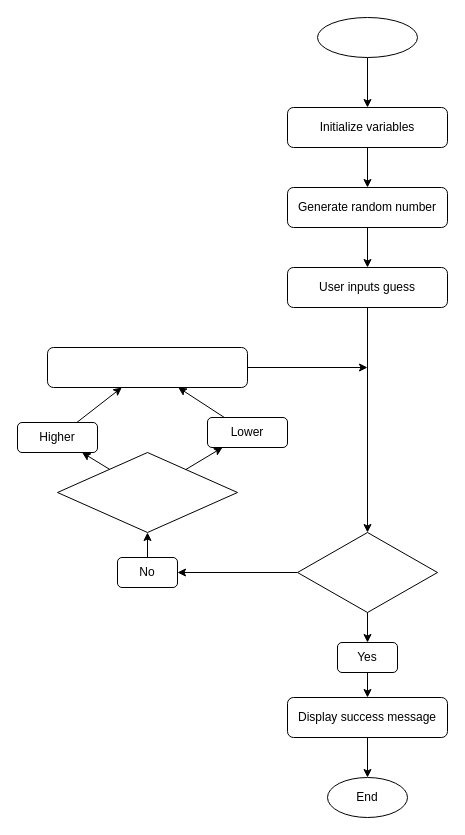
Some shapes in this 465 by 835 pixel diagram are drawn without their labels. Here are the shapes that lost their labels. From the top down, the box of each, then its label:
(316, 16, 418, 58): Start
(46, 346, 248, 388): Prompt user for new guess
(56, 452, 238, 532): Is guess higher or lower?
(296, 532, 438, 612): Is guess correct?
